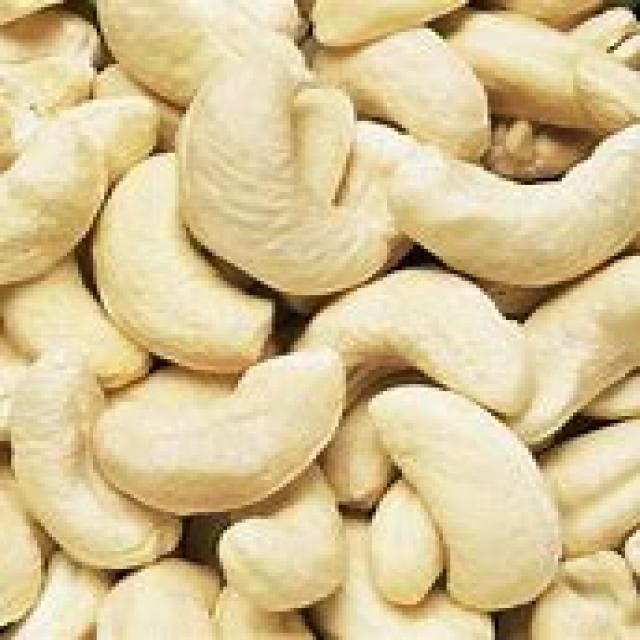Cashew: (105, 360, 357, 505), (404, 401, 568, 583), (195, 78, 352, 265), (398, 132, 640, 250), (103, 179, 243, 365), (13, 344, 126, 570), (330, 274, 518, 367), (0, 100, 104, 266), (213, 508, 378, 599)
